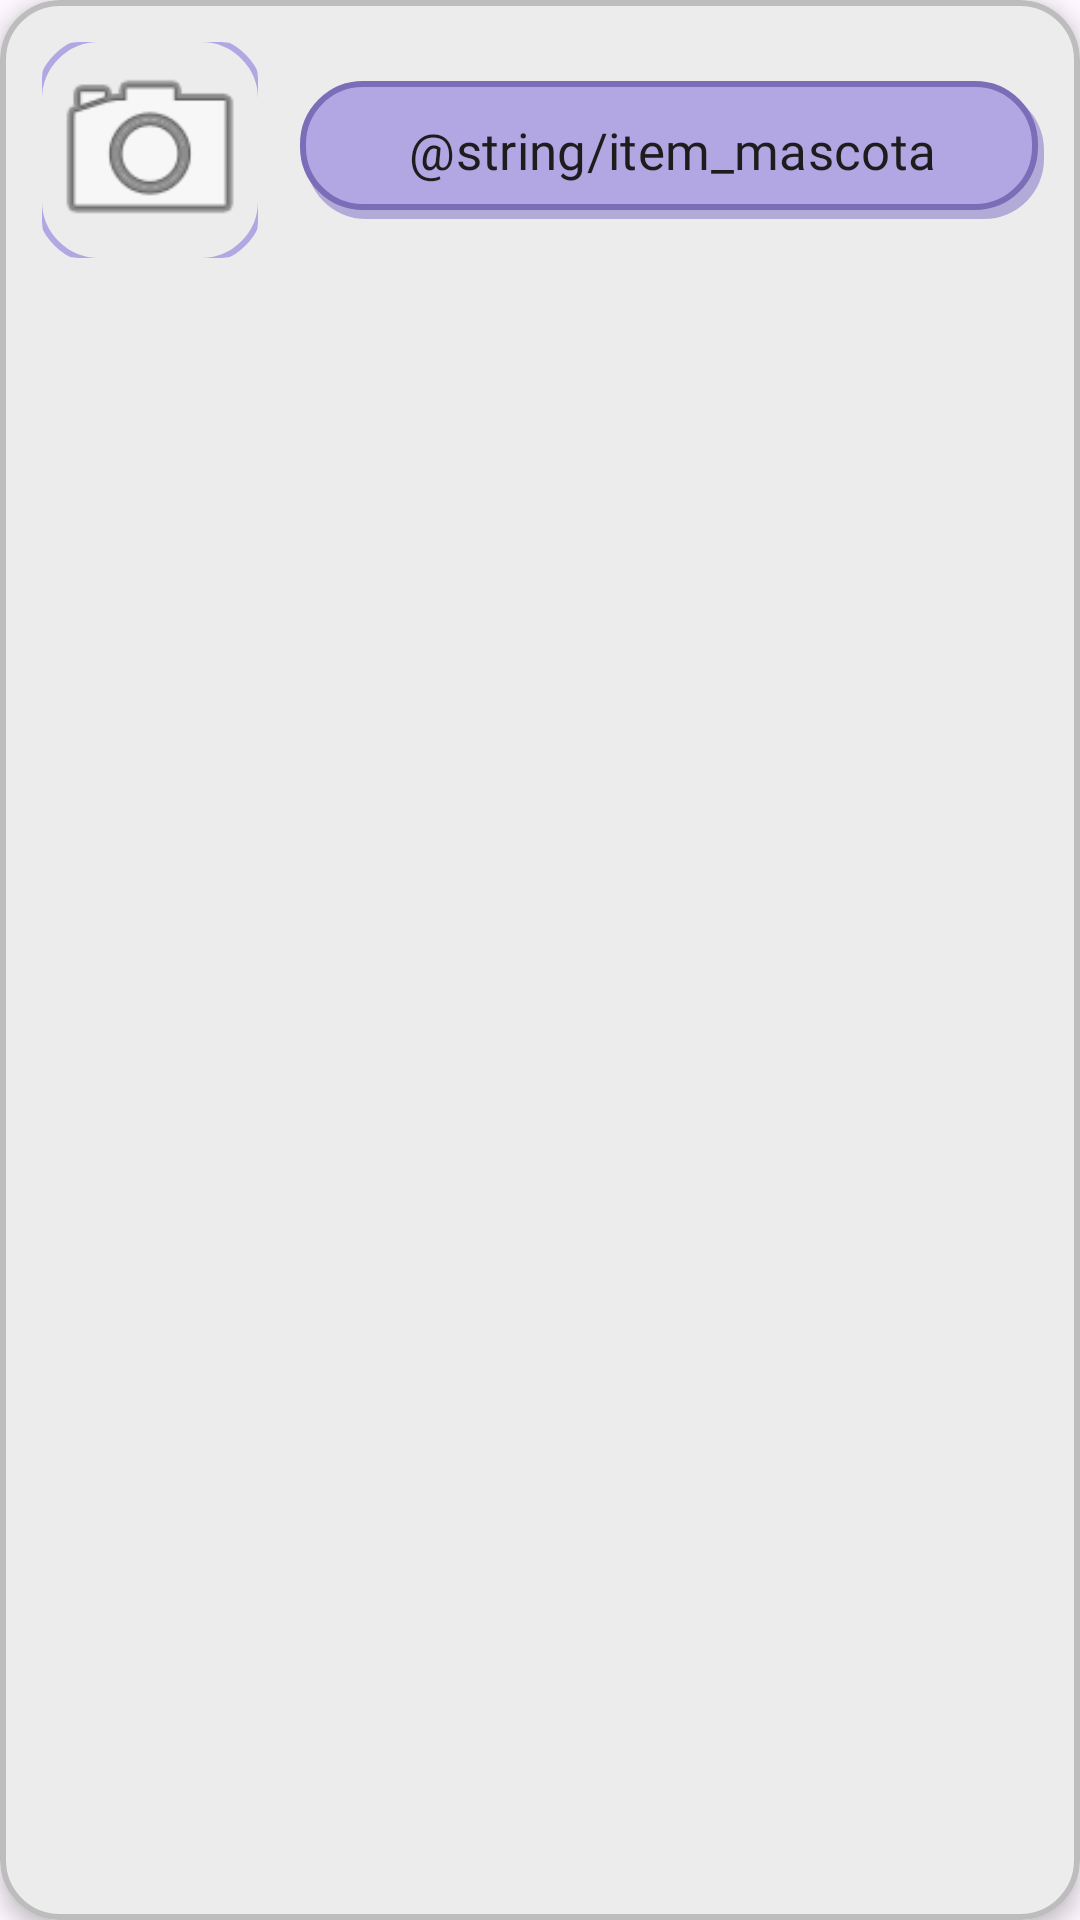

Screen size 1080*1920. Icon name, then its box in pixels as Rect(x1, y1, x2, y2):
camera: Rect(42, 42, 258, 258)
